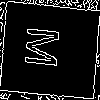M: (24, 25, 68, 70)
